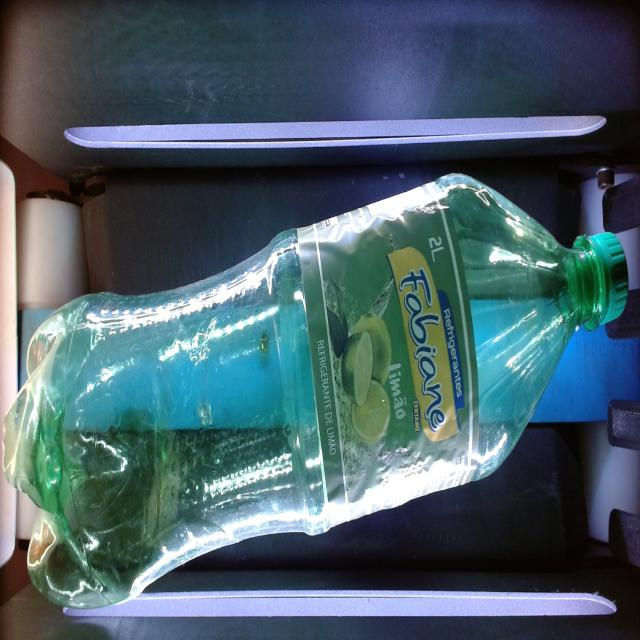bottle: (4, 173, 628, 608)
